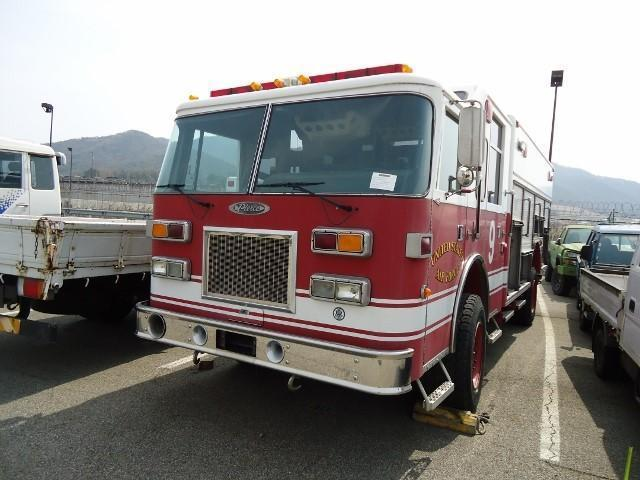Fire-engine: (134, 65, 554, 435)
